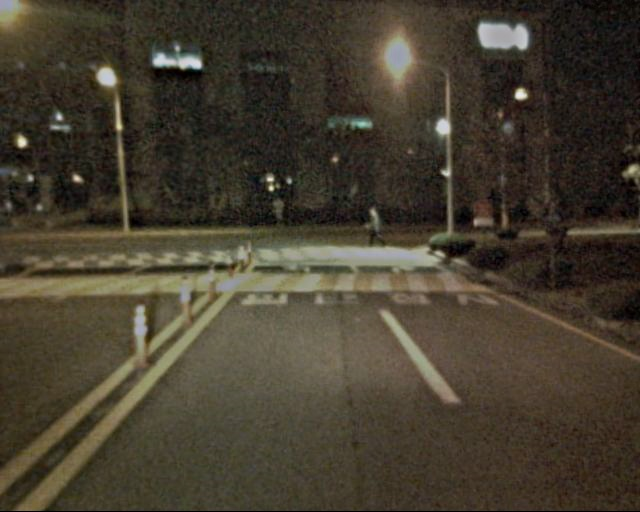person: (365, 205, 388, 260)
